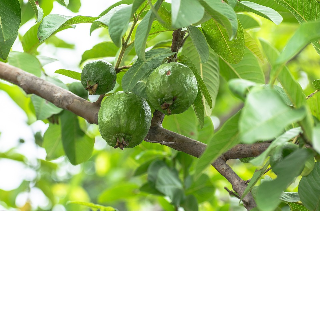oi: (95, 87, 154, 155), (139, 59, 200, 119)
